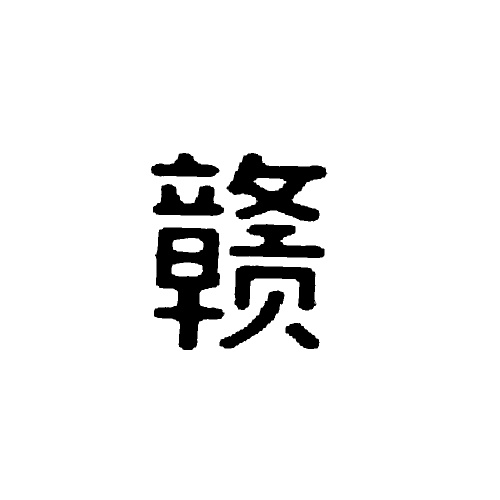gan: (0, 0, 498, 479)
